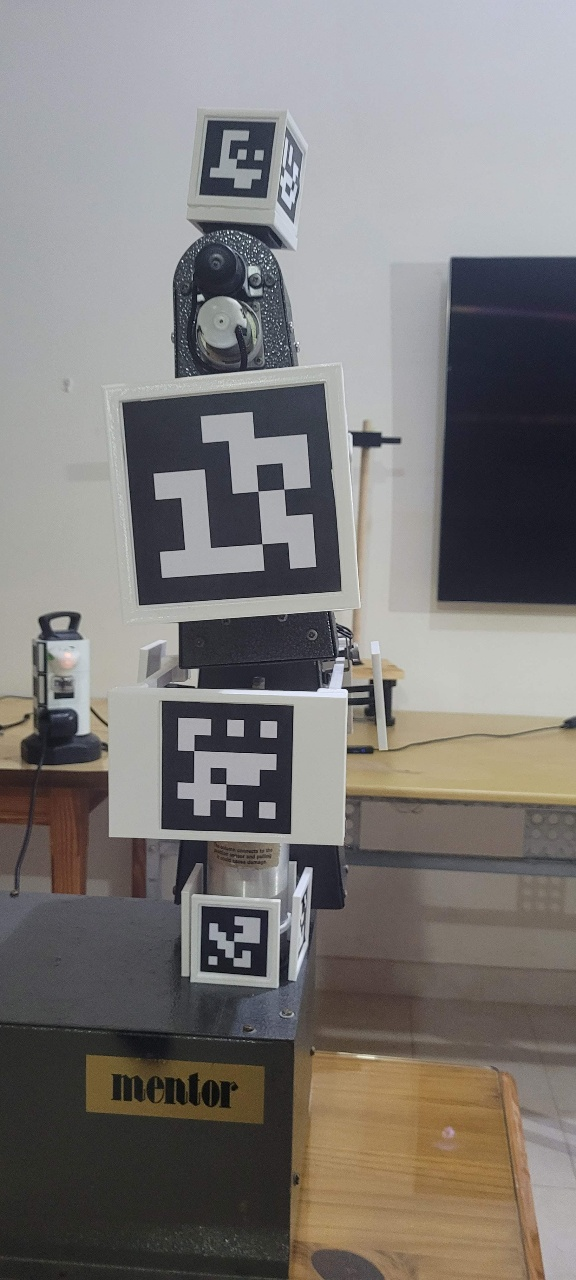Robot: (30, 235, 548, 1123)
